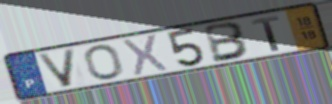5: (165, 26, 206, 69)
B: (202, 21, 252, 65)
O: (82, 43, 126, 81)
T: (250, 14, 282, 52)
V: (34, 47, 79, 89)
X: (120, 32, 171, 78)
